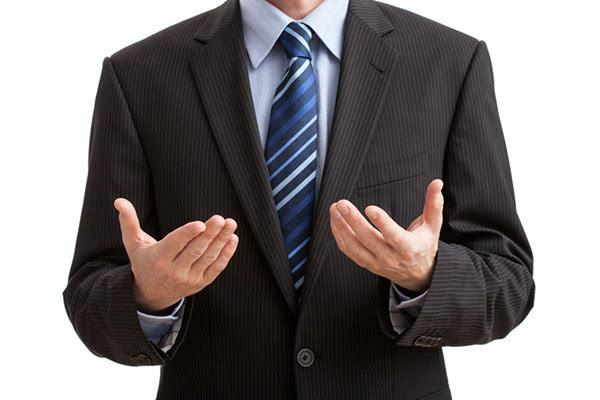no-phone: (111, 195, 241, 303), (325, 175, 446, 288)
